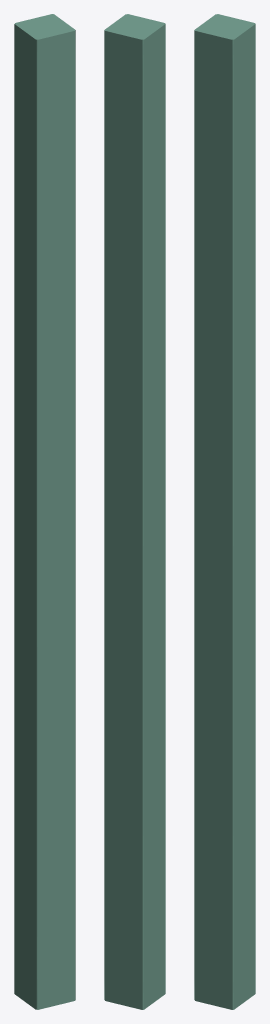
File: gallery_post_low.glb
3 views of the same model, side by side, from view 1: azimuth 30°, elevation 25°; view 2: azimuth 150°, elevation 25°; view 3: azimuth 330°, elevation 25° (orthographic).
Parts seen in each view (by area): view 1: gallery_post_low_post; view 2: gallery_post_low_post; view 3: gallery_post_low_post.
Boxes of the visible parts, box(x1,y1,x2,y2) form: gallery_post_low_post: box(14, 14, 75, 1009); gallery_post_low_post: box(104, 14, 165, 1009); gallery_post_low_post: box(194, 14, 255, 1009).
Bounding box in the file's own units: 0.12 × 2.8 × 0.12.
